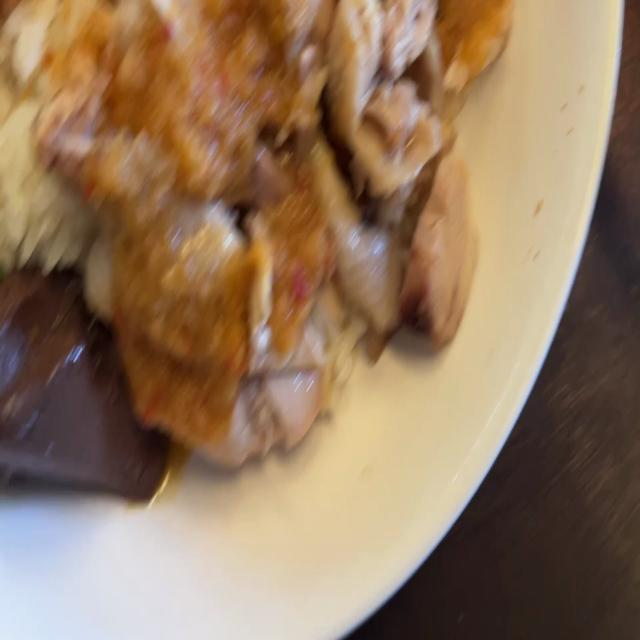boiled_chicken: (35, 0, 498, 378)
boiled_chicken_blood_jelly: (0, 257, 159, 500)
chicken_rice: (0, 0, 516, 499)
